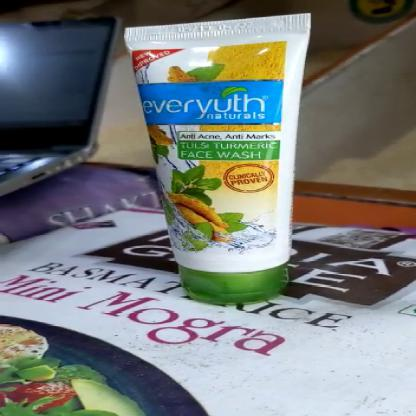EY AAAM TULSI TURMERIC FACEWASH50G: (131, 24, 317, 296)
